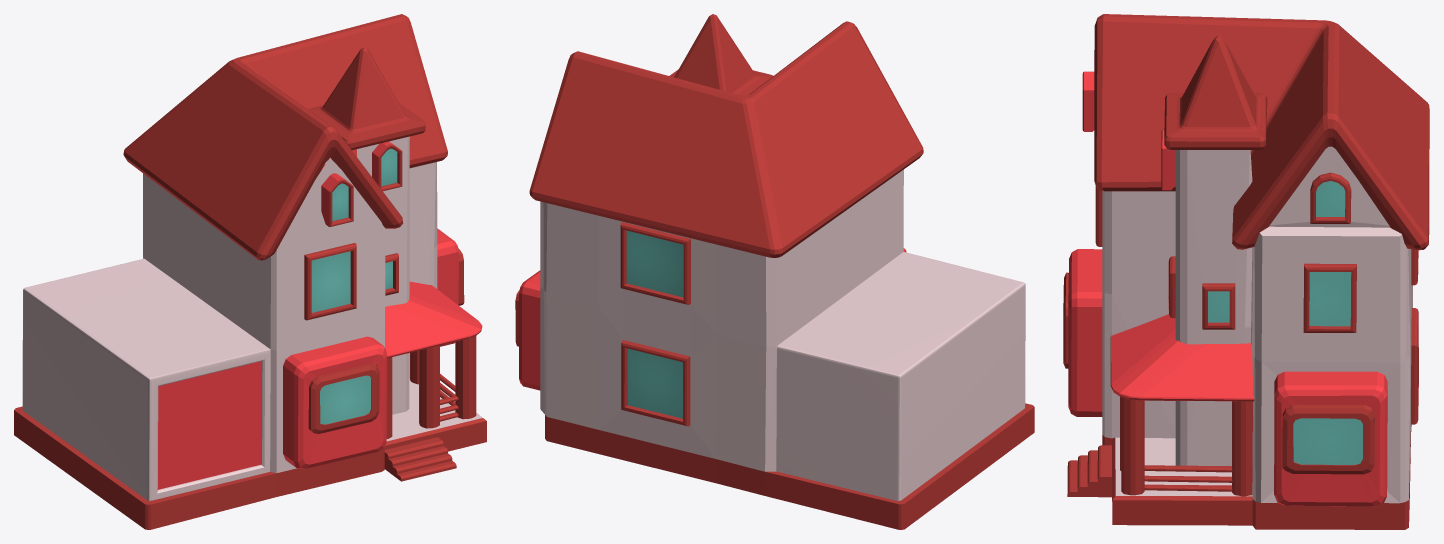
File: SM_House_24.fbx
3 views of the same model, side by side, from view 1: azimuth 30°, elevation 25°; view 2: azimuth 150°, elevation 25°; view 3: azimuth 270°, elevation 25° (orthographic). The views are drawn at different scales.
Parts seen in each view (by area): view 1: SM_House_24; view 2: SM_House_24; view 3: SM_House_24.
Part boxes in pixels (x1,y1,x2,y2): SM_House_24: [14, 14, 486, 529]; SM_House_24: [515, 14, 1034, 529]; SM_House_24: [1063, 14, 1429, 529].
Bounding box in the file's own units: 1072 × 981 × 729.
